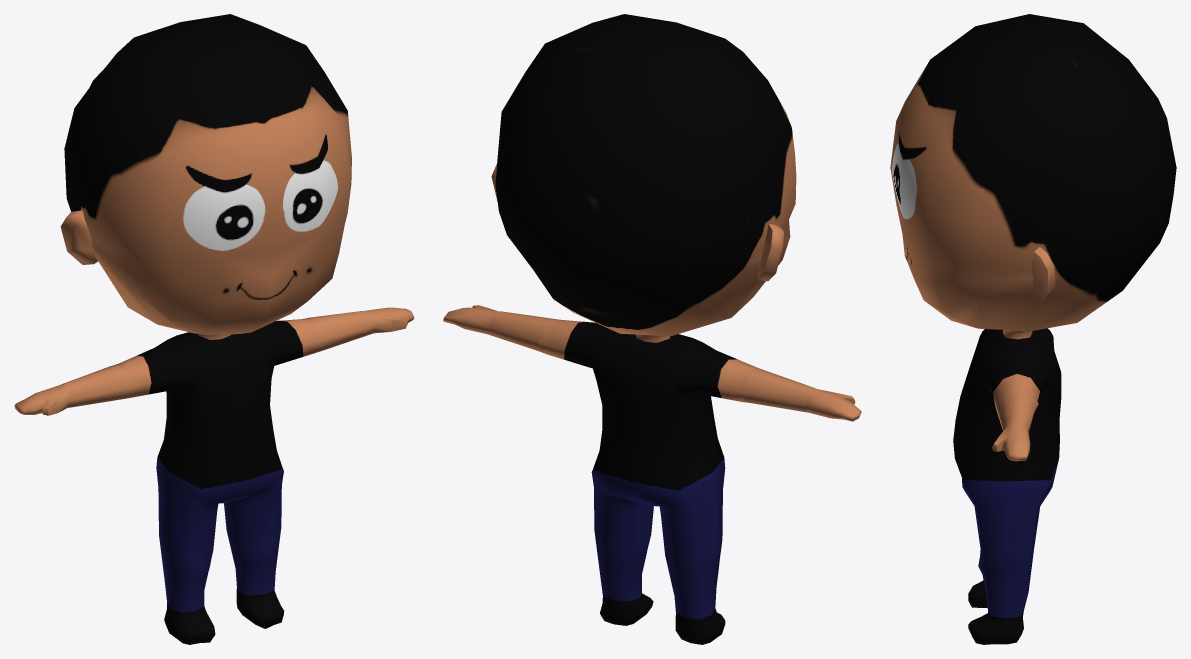
Rendered from karakterfarsik.fbx.
The picture shows the model from 3 angles, left to right: view 1: azimuth 30°, elevation 25°; view 2: azimuth 150°, elevation 25°; view 3: azimuth 270°, elevation 25°; orthographic projection. The views are drawn at different scales.
Visible parts, largest first — view 1: pCube7.003; view 2: pCube7.003; view 3: pCube7.003.
Boxes of the visible parts, box(x1,y1,x2,y2) form: pCube7.003: box(14, 14, 414, 644); pCube7.003: box(443, 14, 861, 644); pCube7.003: box(890, 14, 1176, 644).
Size of the model in its own units: 122 by 171 by 75.74.
Materials: 1 (1 with a texture image).
